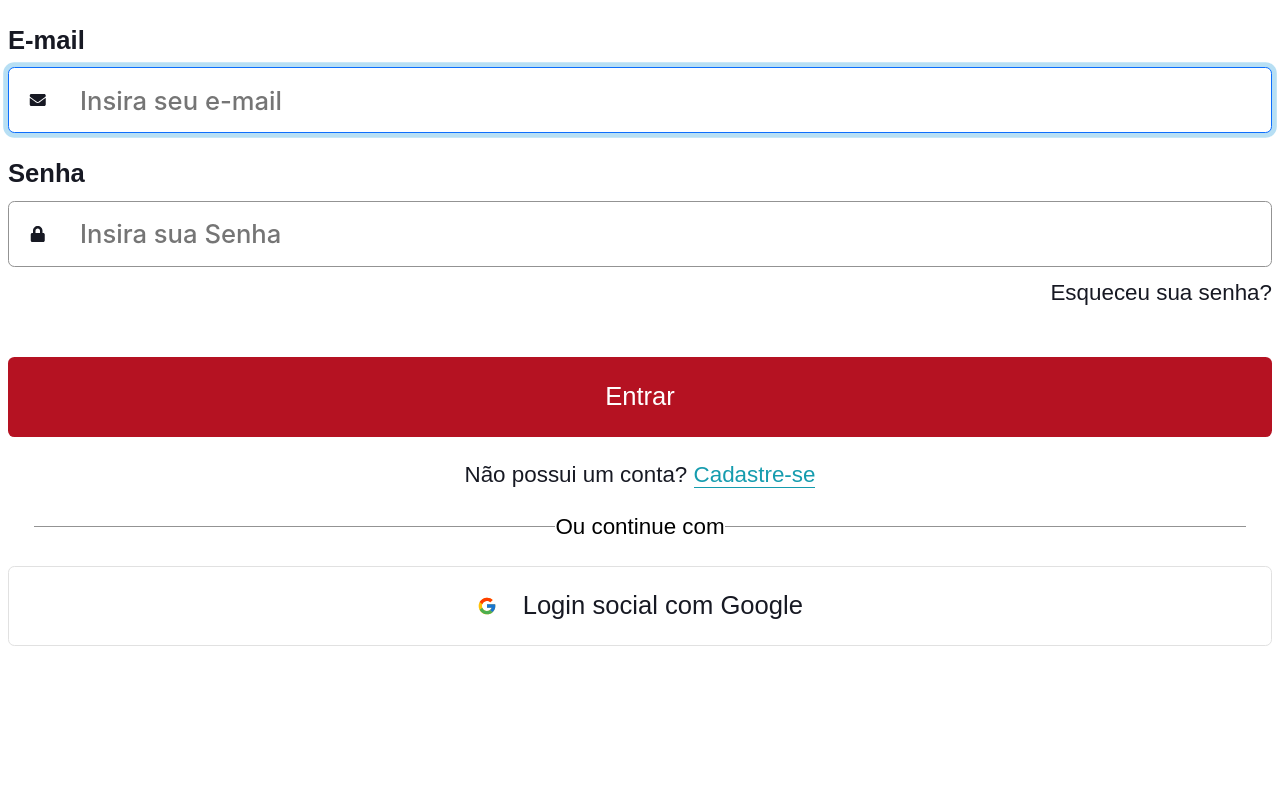
Test: <SignInForm /> › should display min length error when password is invalid
Type "test@mail.com" into the field labelled "E-mail" at (657, 100), box [54,72,1259,129]
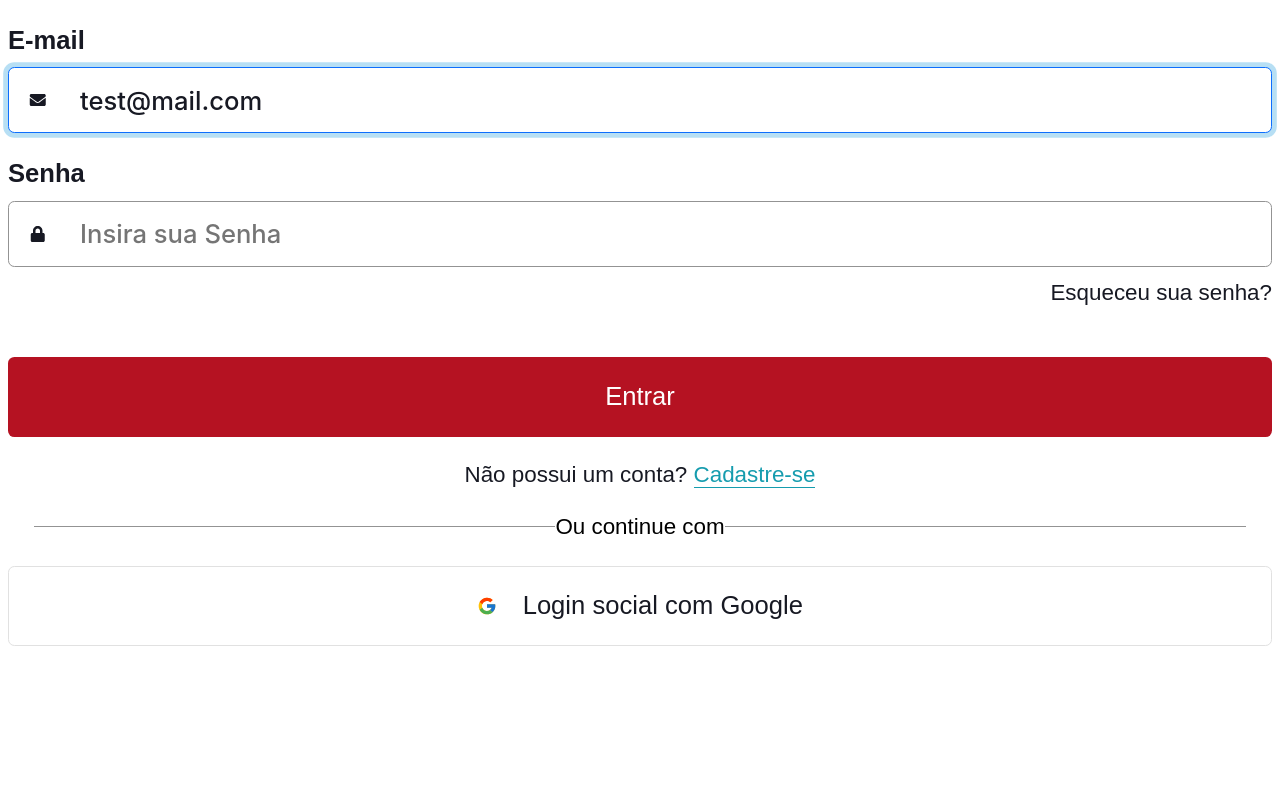
Type "pass" into the password field labelled "Senha" at (657, 234), box [54,206,1259,262]
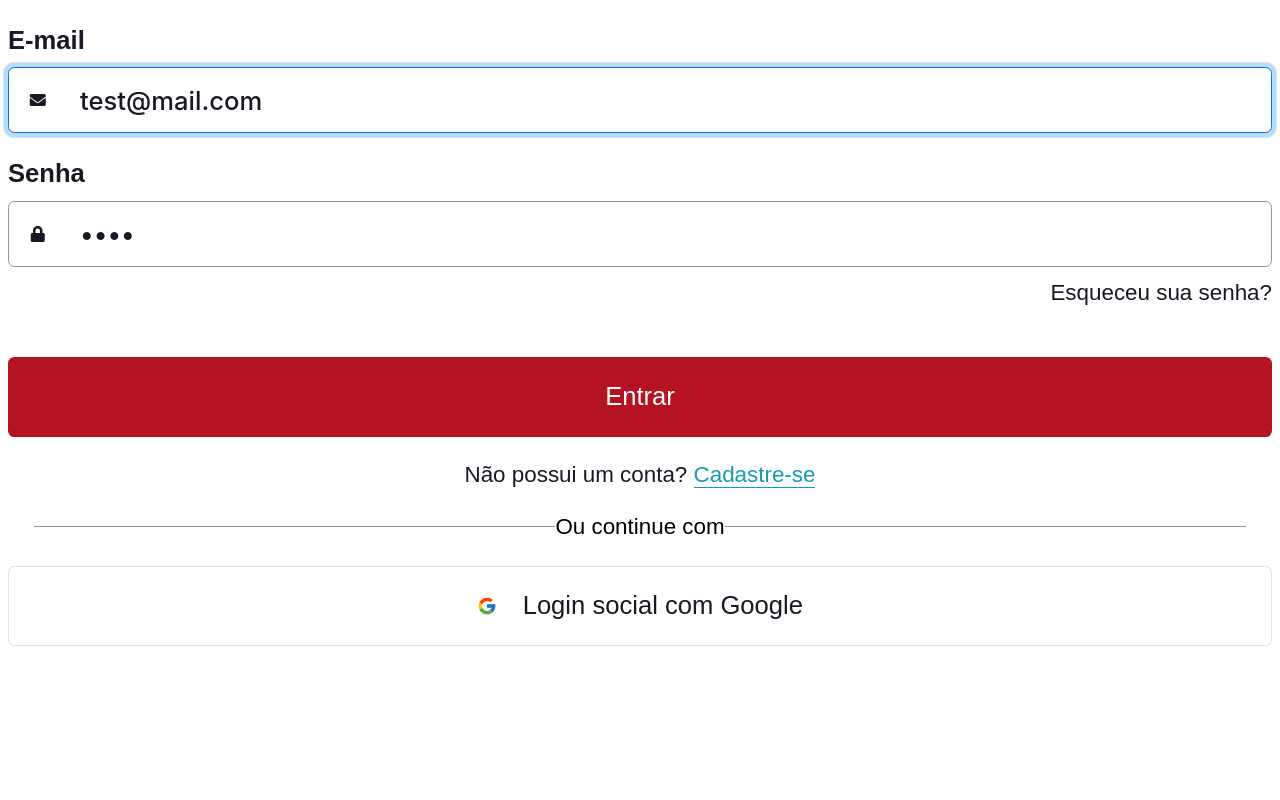
Submit the form from the button "Entrar", box [8,357,1272,437]
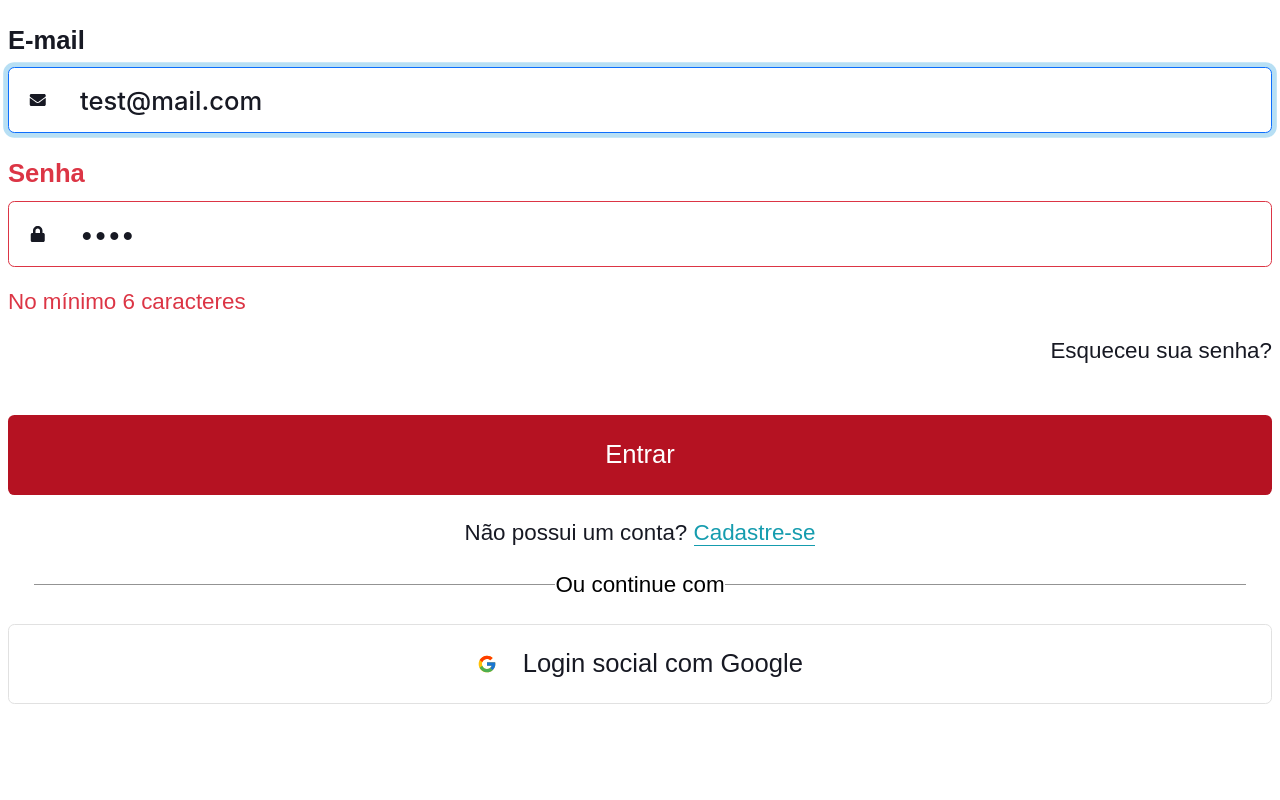
Check: the number of messages is 1, box [8,289,246,314]
